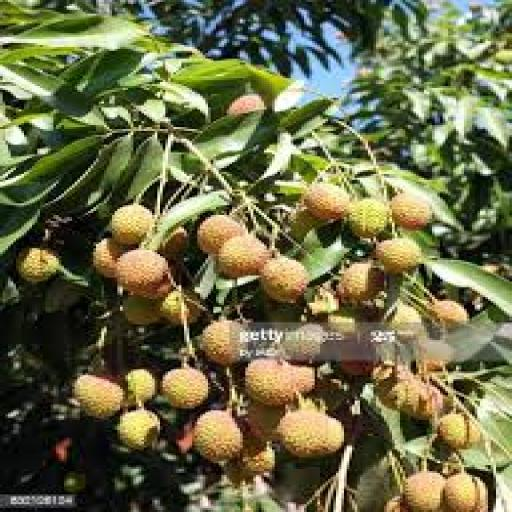lychee: (278, 411, 343, 457), (115, 249, 170, 298), (195, 411, 242, 463), (246, 360, 298, 406), (72, 374, 125, 418), (219, 235, 271, 279), (262, 256, 309, 302), (160, 368, 210, 408), (336, 262, 383, 302), (200, 321, 242, 365), (110, 204, 154, 246), (198, 215, 245, 254), (302, 184, 349, 220), (403, 471, 445, 511), (443, 473, 487, 511), (118, 409, 159, 449), (438, 413, 482, 449), (350, 198, 389, 238), (376, 239, 421, 273), (390, 194, 431, 230), (16, 249, 58, 283), (160, 290, 202, 324), (248, 401, 285, 439), (94, 239, 127, 277), (430, 299, 469, 328), (123, 296, 159, 326), (126, 370, 157, 404), (160, 227, 189, 259), (227, 94, 266, 115)
